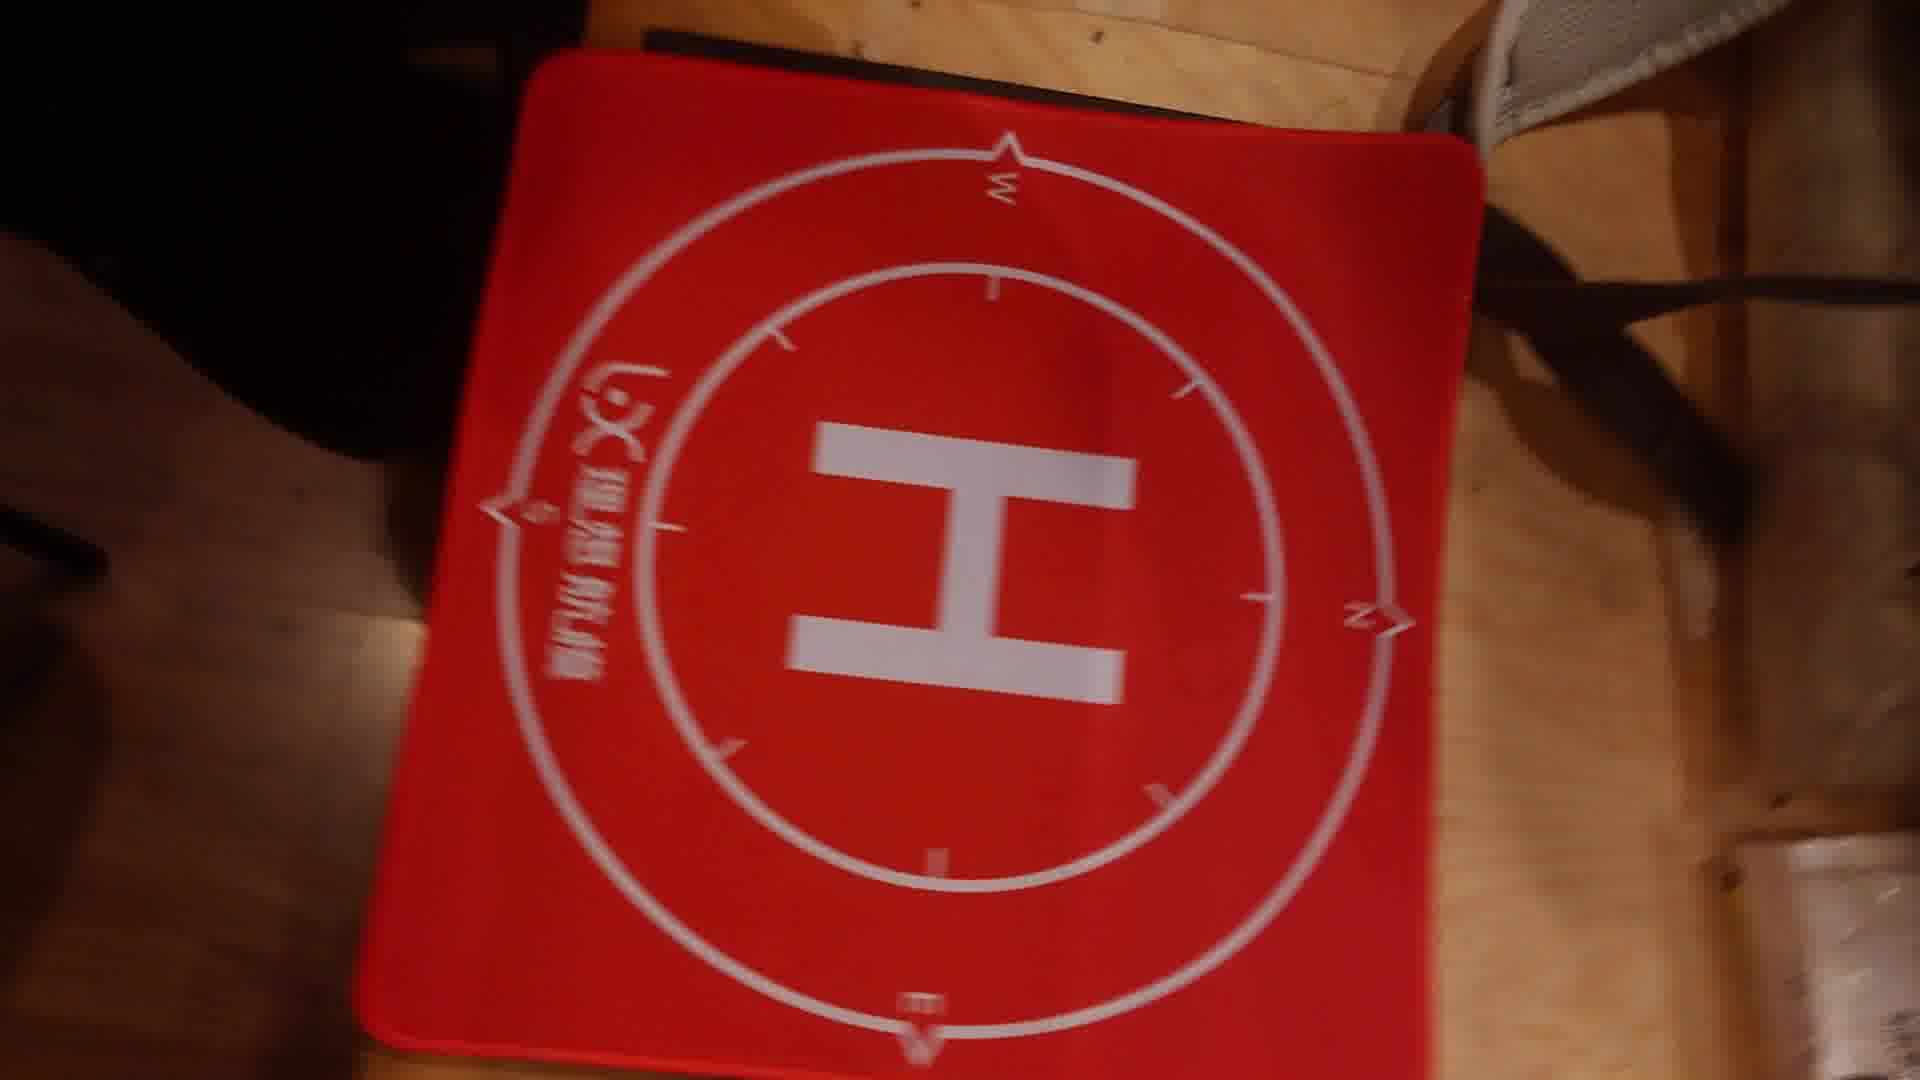H: (782, 423, 1139, 715)
